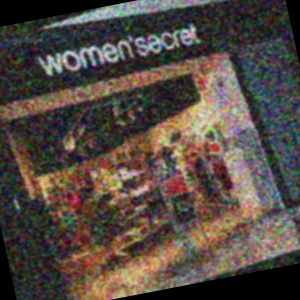women_secret: (165, 0, 228, 16)
